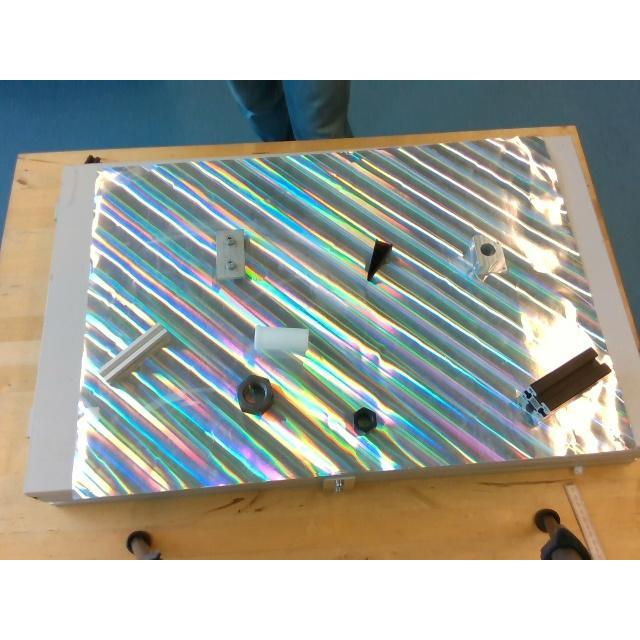F20_20_G: (100, 324, 172, 381)
M20: (352, 407, 376, 433)
M30: (237, 375, 273, 413)
S40_40_B: (519, 348, 611, 420)
Spacer: (252, 326, 308, 354)
